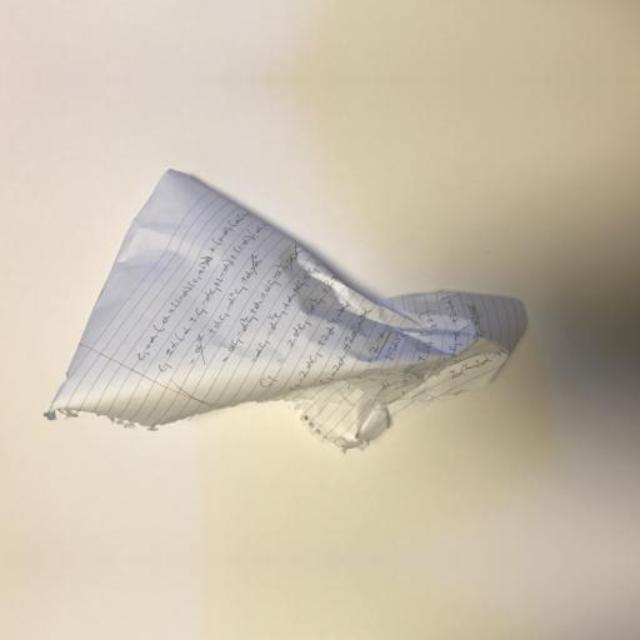paper: (46, 162, 530, 476)
